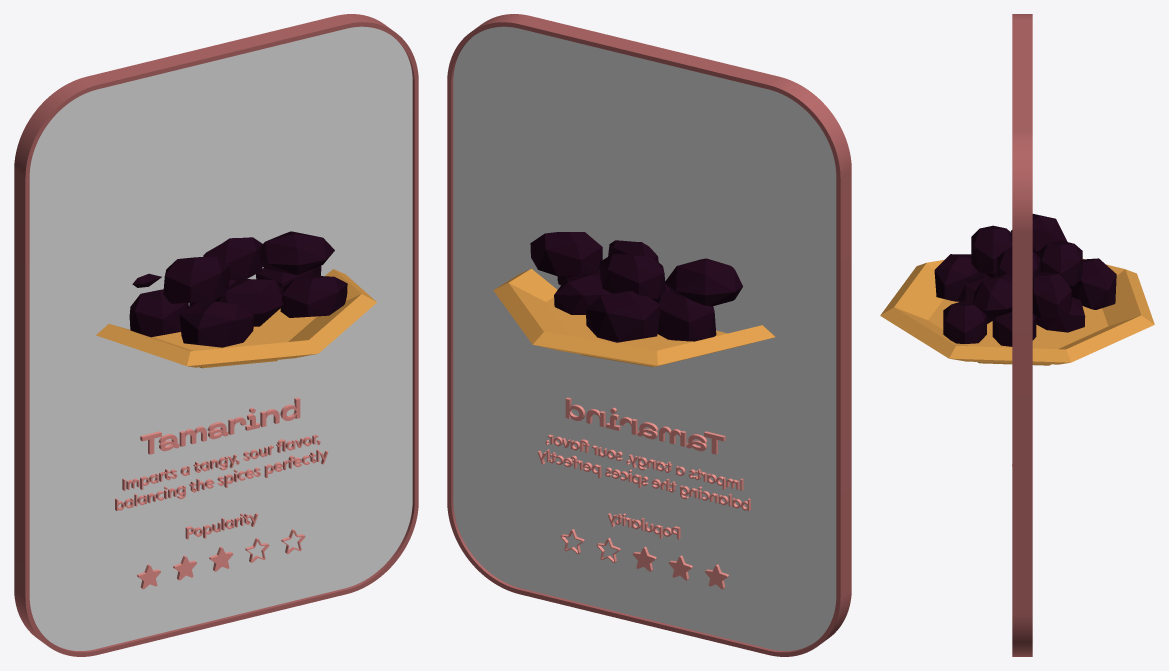
Rendered from tamarind.glb.
3 renders of one model, left to right at view 1: azimuth 30°, elevation 25°; view 2: azimuth 150°, elevation 25°; view 3: azimuth 270°, elevation 25°, orthographic. The views are drawn at different scales.
Parts seen in each view (by area): view 1: Mesh_2714.001, Raisin_242, Mesh_2362.002, Mesh_2204.002, Mesh_2295.002, Mesh_2736.001; view 2: Mesh_2714.001, Raisin_242, Mesh_2362.002, Mesh_2204.002, Mesh_2295.002, Mesh_2736.001; view 3: Raisin_242, Mesh_2362.002.
Boxes of the visible parts, x1,y1,x2,y2 form: Mesh_2714.001: [29, 26, 412, 650]; Raisin_242: [96, 231, 376, 368]; Mesh_2362.002: [14, 14, 418, 656]; Mesh_2204.002: [115, 434, 328, 539]; Mesh_2295.002: [140, 397, 300, 454]; Mesh_2736.001: [137, 529, 305, 589]; Mesh_2714.001: [453, 26, 836, 650]; Raisin_242: [493, 232, 775, 366]; Mesh_2362.002: [447, 14, 851, 656]; Mesh_2204.002: [537, 434, 750, 539]; Mesh_2295.002: [565, 397, 725, 454]; Mesh_2736.001: [560, 529, 728, 589]; Raisin_242: [880, 214, 1154, 365]; Mesh_2362.002: [1012, 14, 1032, 656].
Size of the model in its own units: 9.06 by 12.55 by 6.03.
